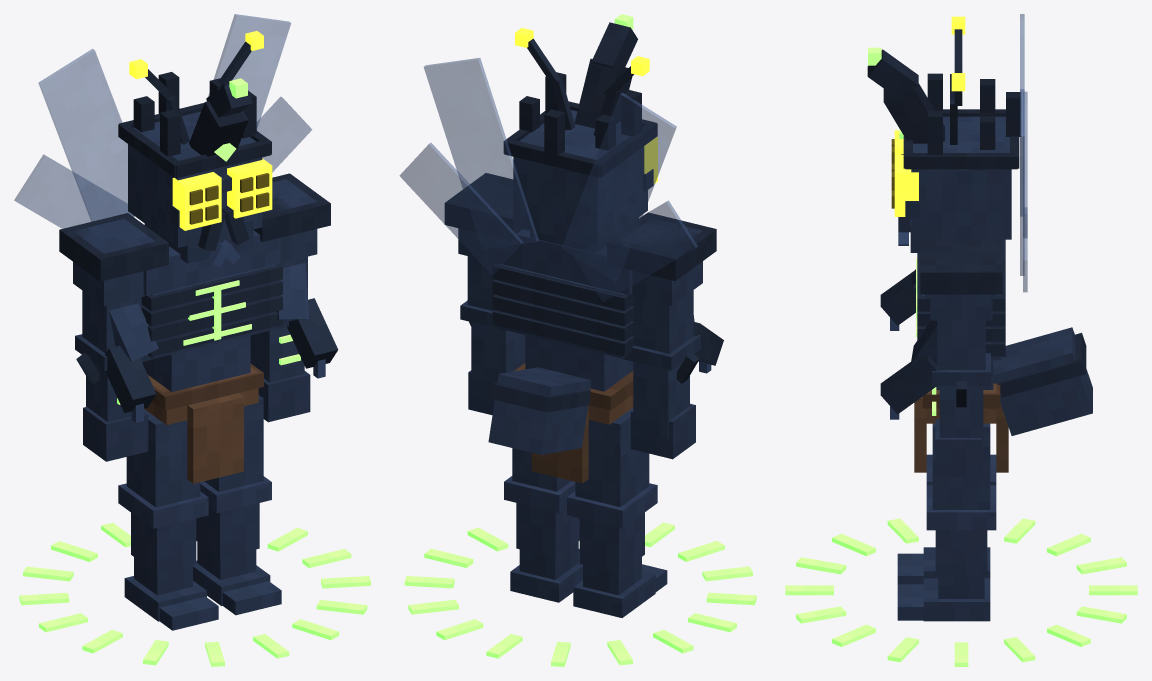
Rendered from insectoid_base_v3_evo3.glb.
3 renders of one model, left to right at view 1: azimuth 30°, elevation 25°; view 2: azimuth 150°, elevation 25°; view 3: azimuth 270°, elevation 25°, orthographic.
Visible parts, largest first — view 1: Torso, Head, LegR, ArmR, LegL, ArmL, Root; view 2: Torso, Head, ArmR, LegR, ArmL, LegL, Root; view 3: Head, Torso, ArmL, LegL, Root, LegR.
Boxes of the visible parts, <box> form: Torso: <box>14,14,338,483</box>; Head: <box>118,31,272,267</box>; LegR: <box>118,409,218,630</box>; ArmR: <box>59,213,168,461</box>; LegL: <box>193,395,281,615</box>; ArmL: <box>250,173,330,422</box>; Root: <box>19,522,370,666</box>; Torso: <box>399,58,723,483</box>; Head: <box>503,14,657,252</box>; ArmR: <box>607,212,716,459</box>; LegR: <box>567,407,667,617</box>; ArmL: <box>444,173,525,415</box>; LegL: <box>504,448,582,602</box>; Root: <box>404,522,756,666</box>; Head: <box>867,16,1021,252</box>; Torso: <box>880,14,1092,472</box>; ArmL: <box>920,239,1002,476</box>; LegL: <box>897,423,996,621</box>; Root: <box>785,518,1137,666</box>; LegR: <box>897,454,996,584</box>.
Bounding box in the file's own units: 1.16 × 1.98 × 1.16.
26 materials, 26 textured.
